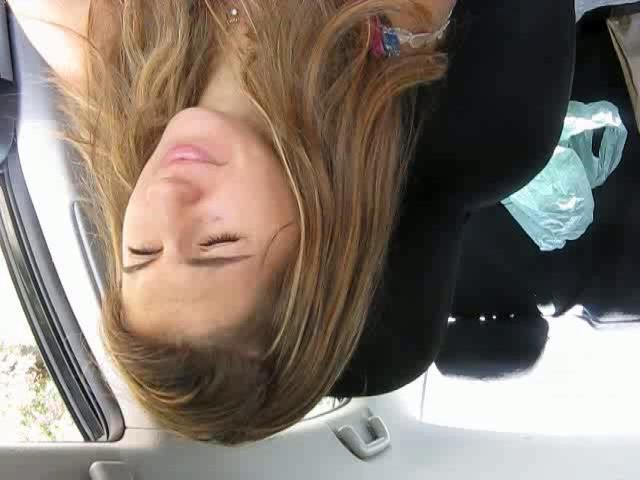eye_closed: (195, 228, 246, 254), (124, 238, 164, 262)
face: (116, 105, 284, 295)
